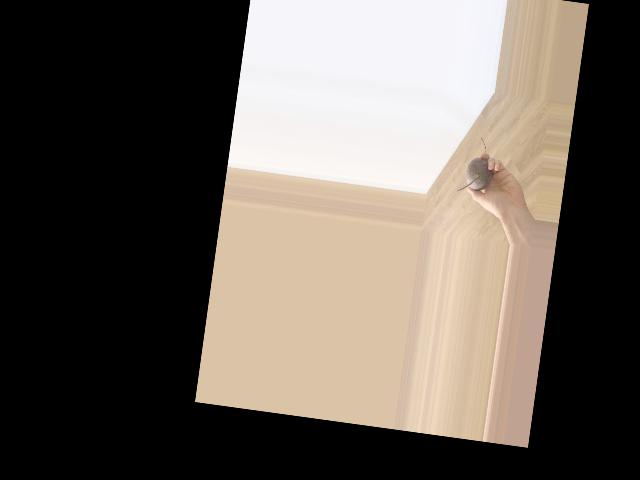beet: (457, 134, 497, 194)
